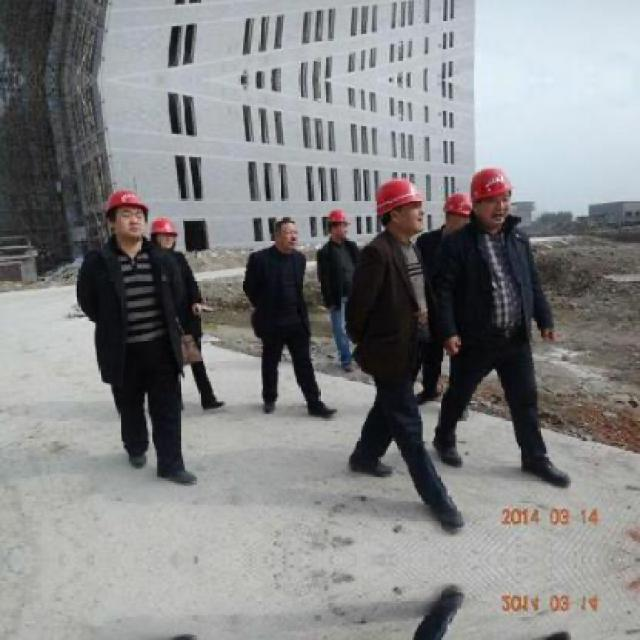helmet: (371, 174, 426, 242), (99, 183, 150, 246), (469, 163, 517, 228), (438, 188, 474, 237), (146, 212, 179, 252), (322, 203, 349, 240)
